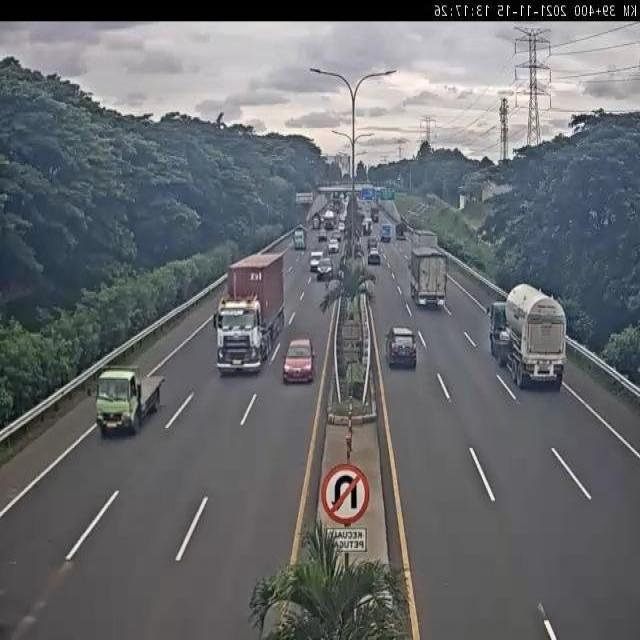Car: (278, 332, 322, 384), (380, 322, 421, 368), (317, 255, 339, 284), (364, 243, 384, 271), (314, 225, 330, 242), (327, 240, 339, 255)
Truck: (482, 277, 586, 397), (200, 245, 286, 371), (96, 355, 166, 429), (406, 246, 453, 309), (288, 224, 308, 254), (376, 222, 395, 244)
